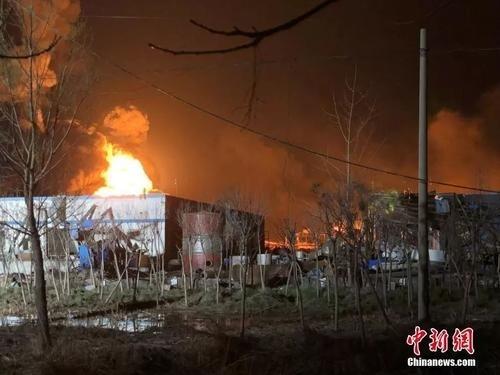fire: (93, 140, 154, 198), (262, 217, 360, 250)
